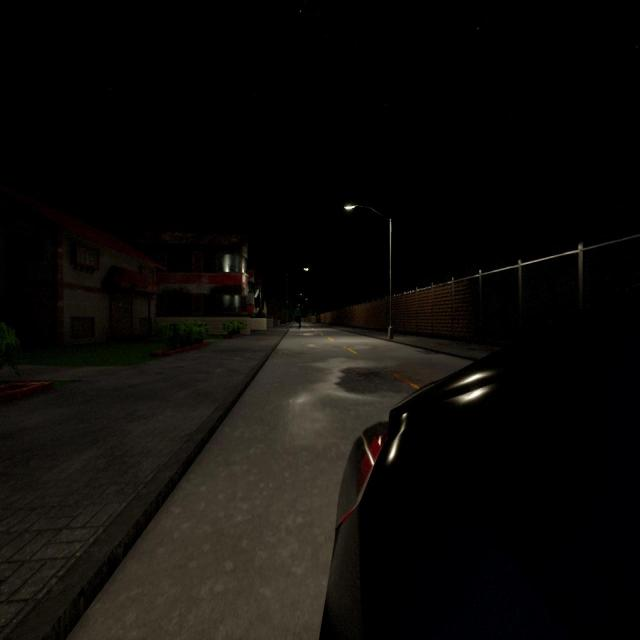Pedestrian: (294, 302, 304, 330)
Vehicle: (320, 290, 640, 637)
